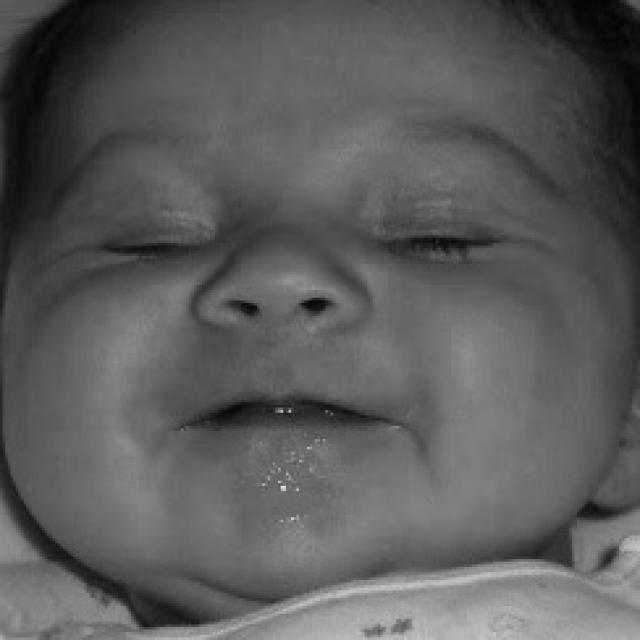real: (0, 6, 631, 587), (73, 200, 512, 274)
